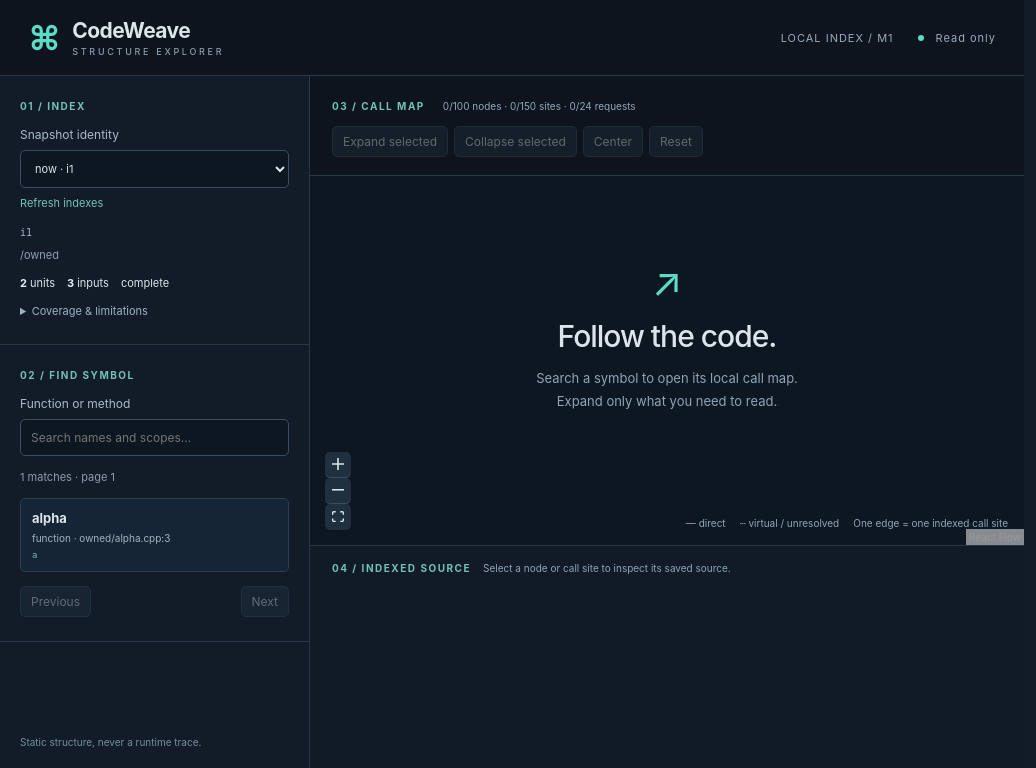
shows errors and permits retry instead of inventing map data
What coordinates should you click on to do the following:
click the button "alpha function · owned/alpha.cpp:3 a"
I would click on:
 (154, 535)
Its box is [20, 498, 289, 572].
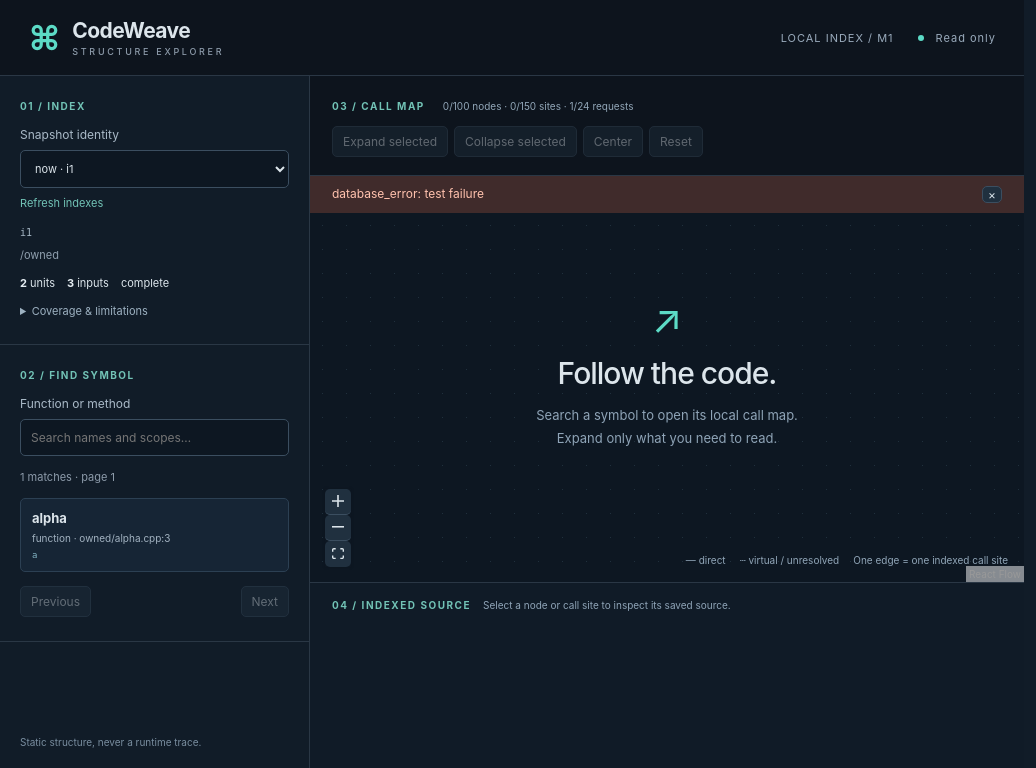
Result: the message "database_error: test failure ×" is shown at [310, 176, 1024, 213]
